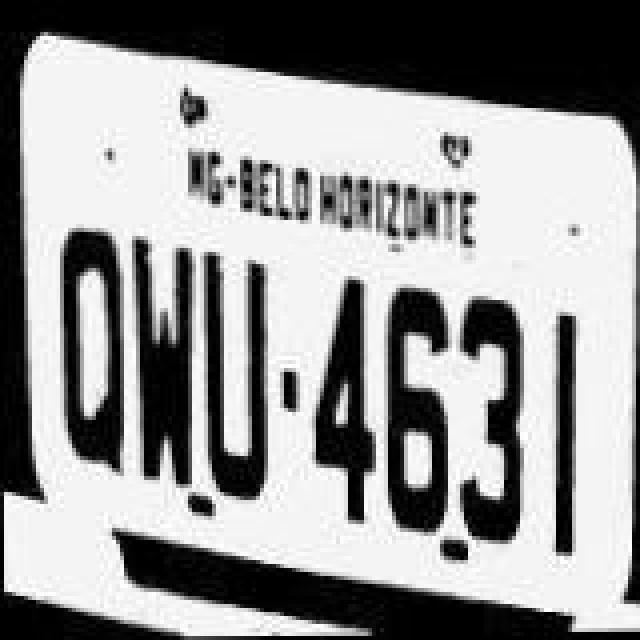1: (538, 296, 594, 564)
3: (452, 278, 528, 542)
4: (310, 264, 382, 544)
6: (374, 274, 454, 542)
Q: (46, 216, 134, 484)
U: (194, 236, 274, 512)
W: (124, 230, 200, 502)
